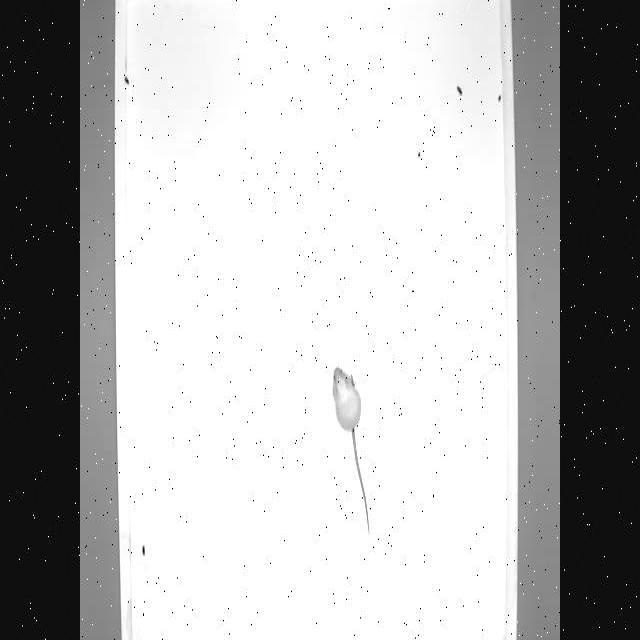rat: (330, 367, 372, 535)
